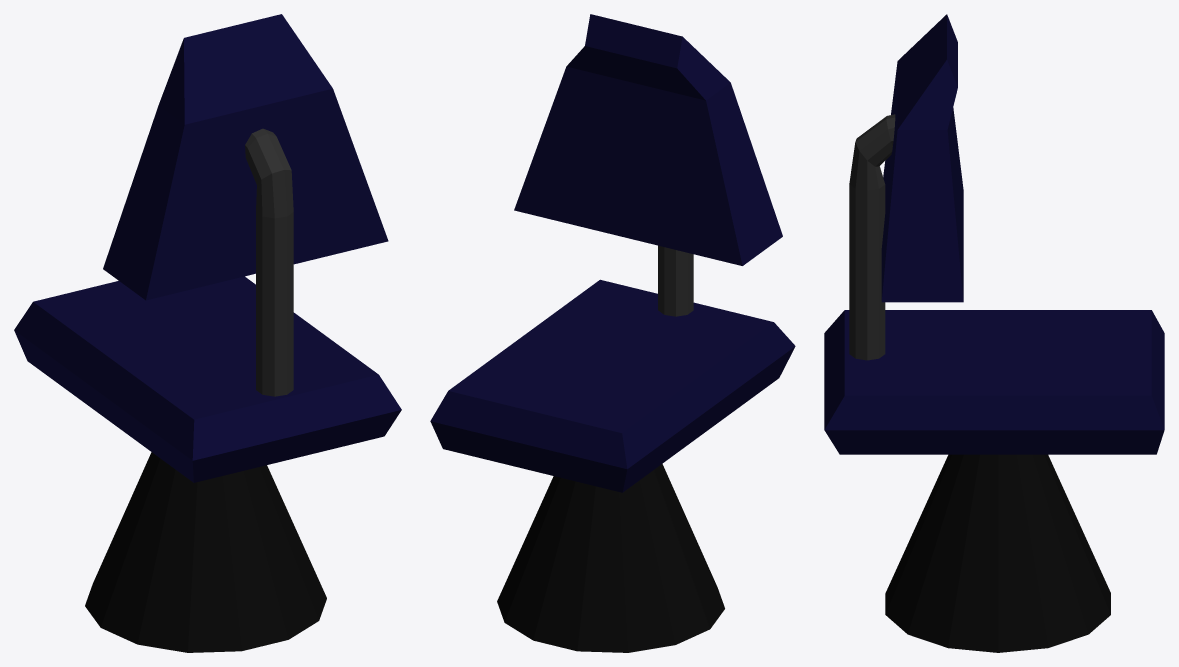
Rendered from Chair_Hangar.fbx.
3 views of the same model, side by side, from view 1: azimuth 30°, elevation 25°; view 2: azimuth 150°, elevation 25°; view 3: azimuth 270°, elevation 25° (orthographic). The views are drawn at different scales.
Visible parts, largest first — view 1: Chair; view 2: Chair; view 3: Chair.
Part boxes in pixels (bbox=[...]): Chair: bbox=[14, 14, 401, 652]; Chair: bbox=[430, 14, 795, 652]; Chair: bbox=[824, 14, 1164, 652].
Size of the model in its own units: 135 by 317 by 172.
